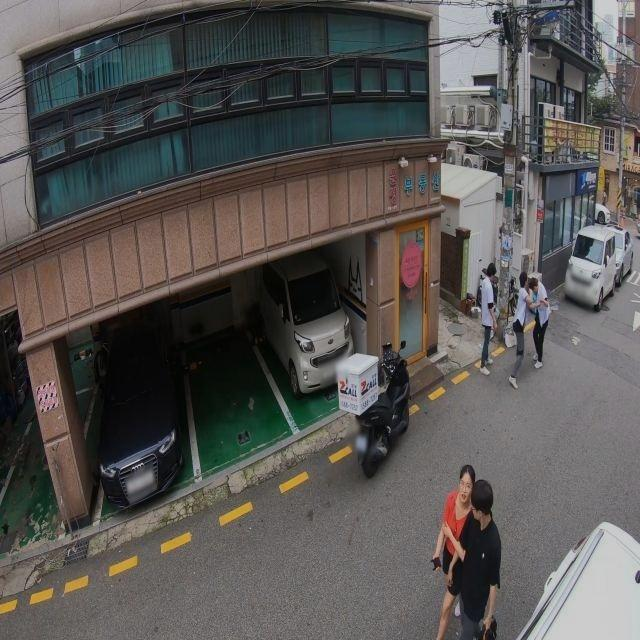fight: (507, 271, 550, 386)
non-fight: (449, 479, 504, 639), (425, 464, 472, 640), (475, 263, 499, 375)
